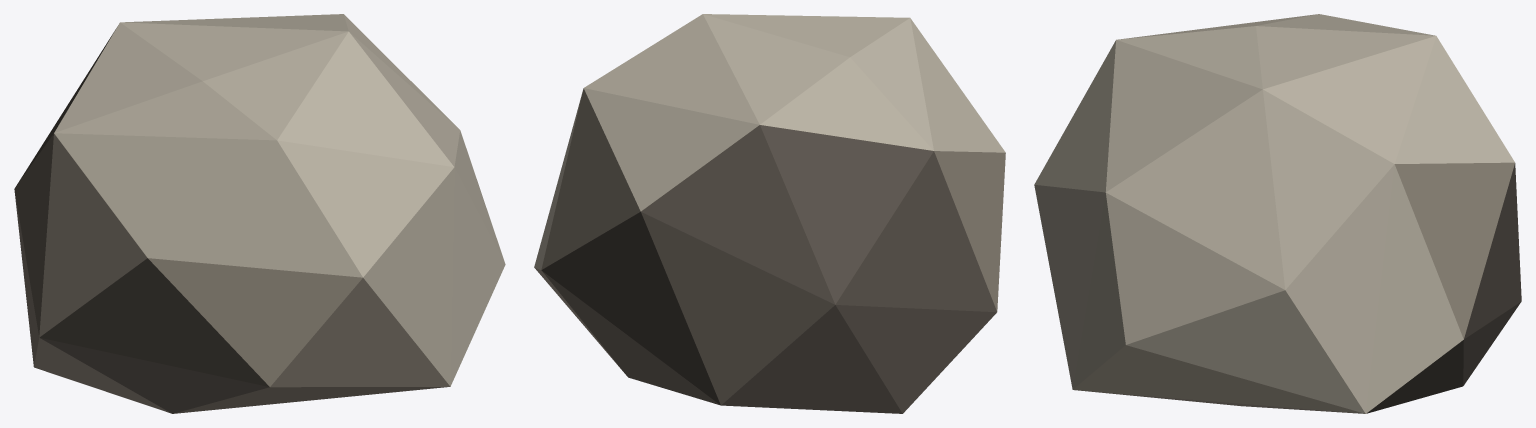
Rendered from stone_bigC.glb.
The picture shows the model from 3 angles, left to right: view 1: azimuth 30°, elevation 25°; view 2: azimuth 150°, elevation 25°; view 3: azimuth 270°, elevation 25°; orthographic projection. The views are drawn at different scales.
Visible parts, largest first — view 1: stone_bigC.002; view 2: stone_bigC.002; view 3: stone_bigC.002.
Part boxes in pixels (left/top/right/bottom): stone_bigC.002: left=14, top=14, right=505, bottom=413; stone_bigC.002: left=534, top=14, right=1005, bottom=413; stone_bigC.002: left=1034, top=14, right=1521, bottom=413.
Size of the model in its own units: 0.9 by 0.6203 by 0.8595.
